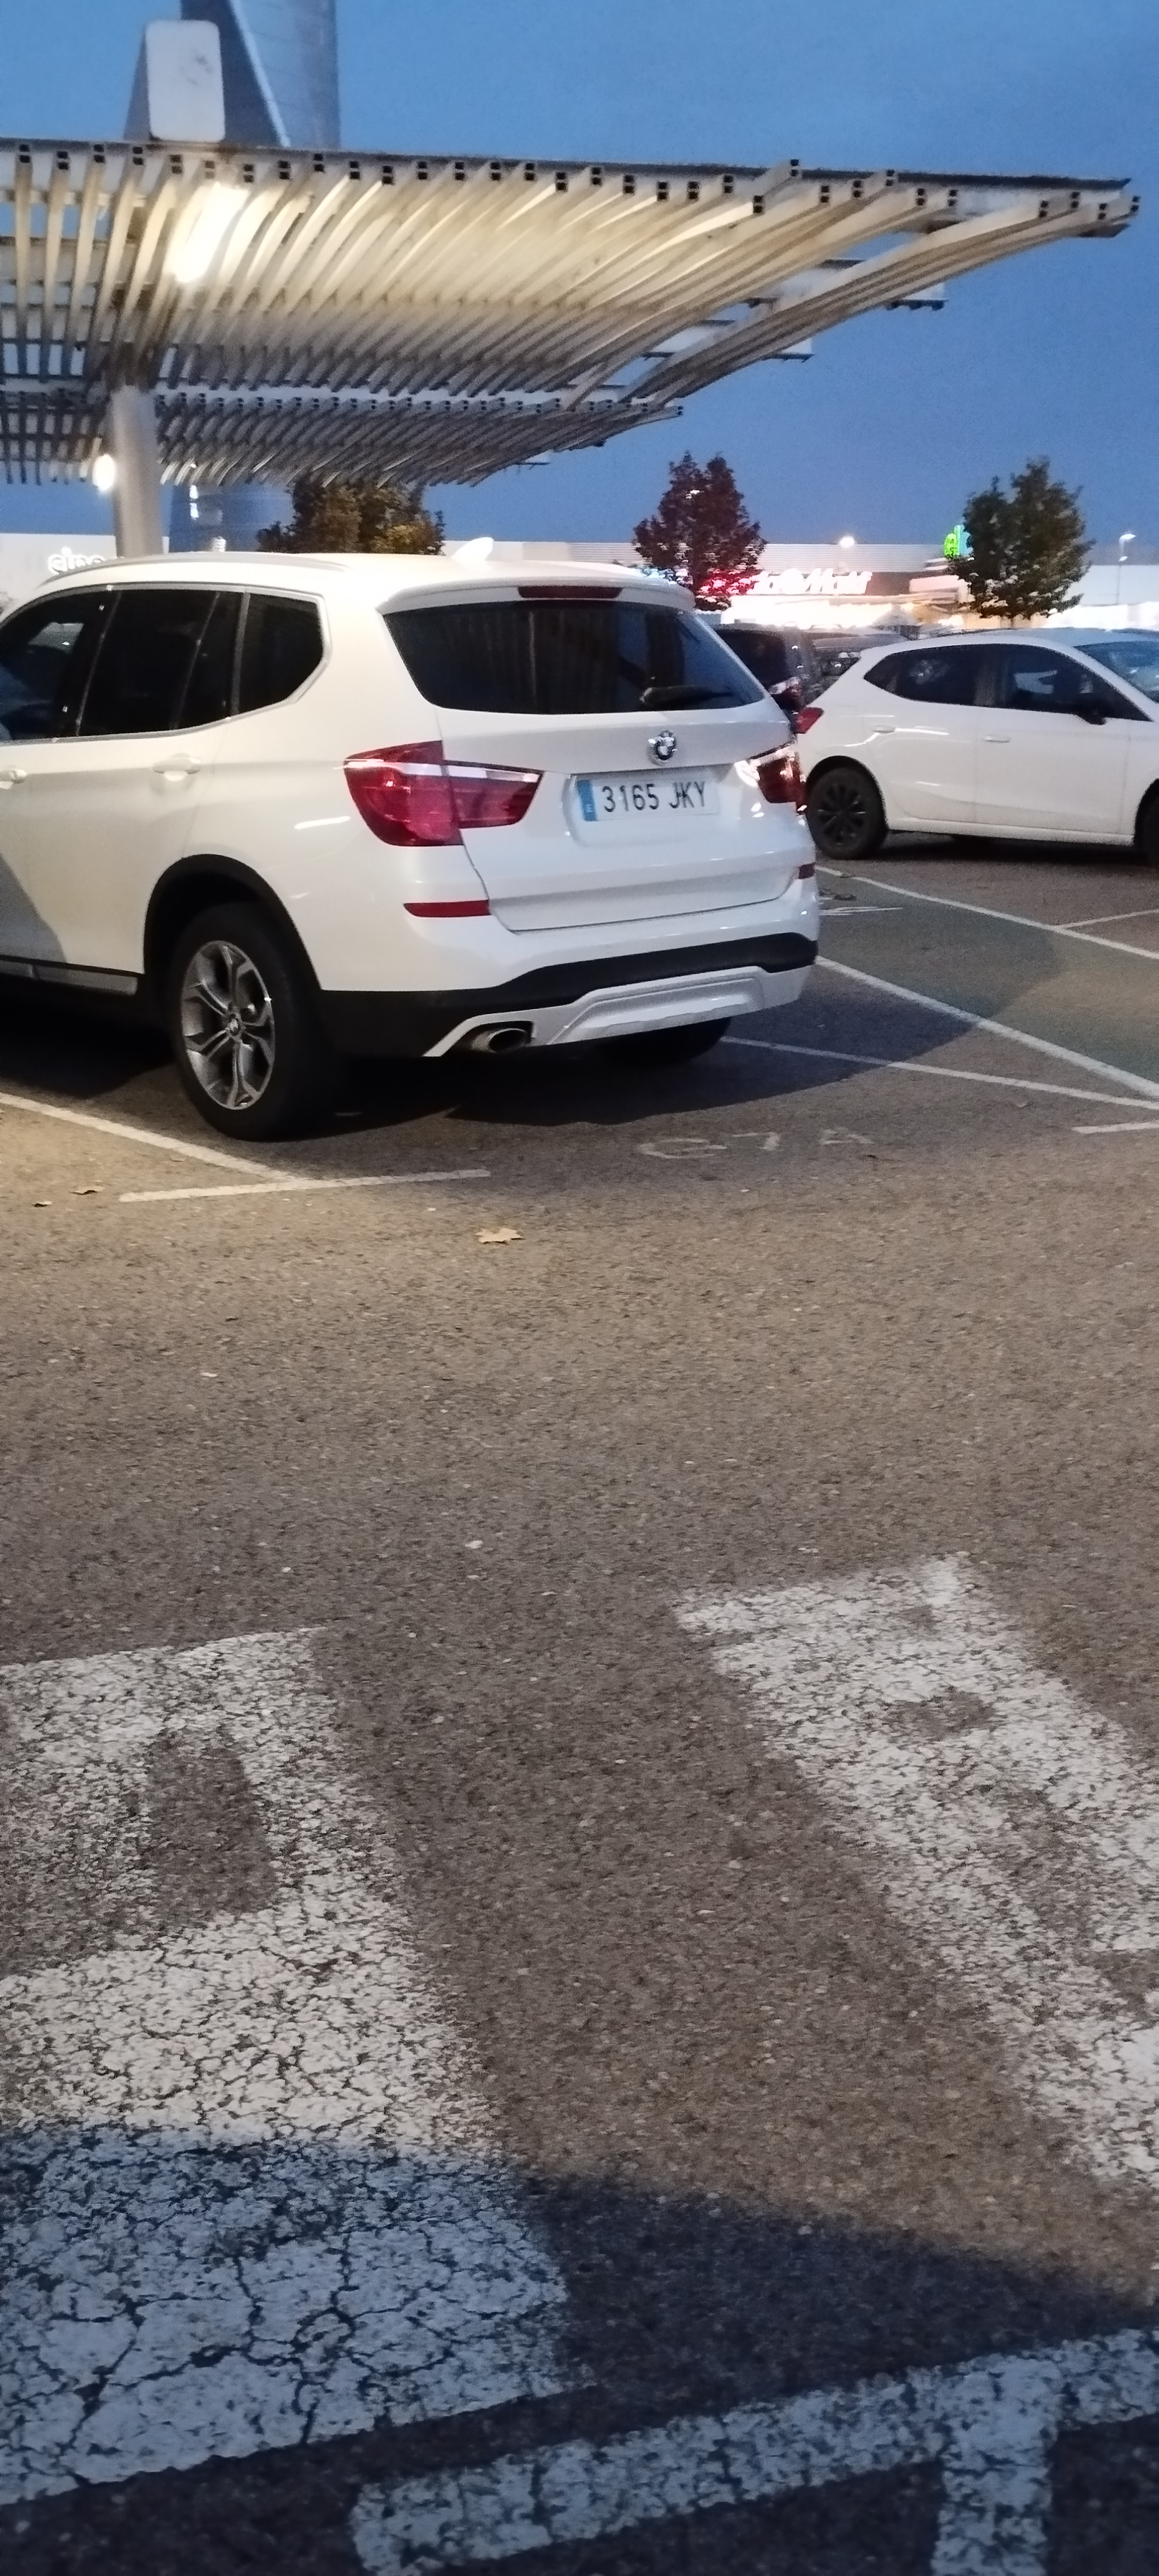Car: (3, 561, 815, 1126)
Plate: (575, 778, 713, 819)
